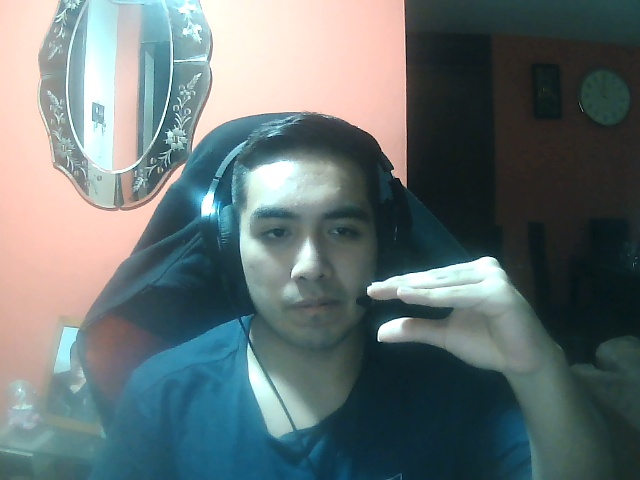no: (364, 248, 562, 381)
